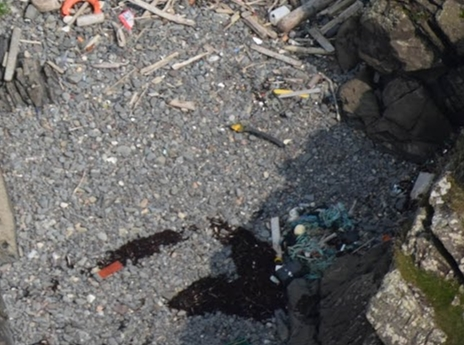net: (286, 203, 354, 272)
straight_bar: (238, 122, 288, 149), (268, 81, 312, 102)
together_barrel: (29, 1, 301, 48), (263, 198, 358, 285)
white_in_green: (86, 242, 138, 294)
